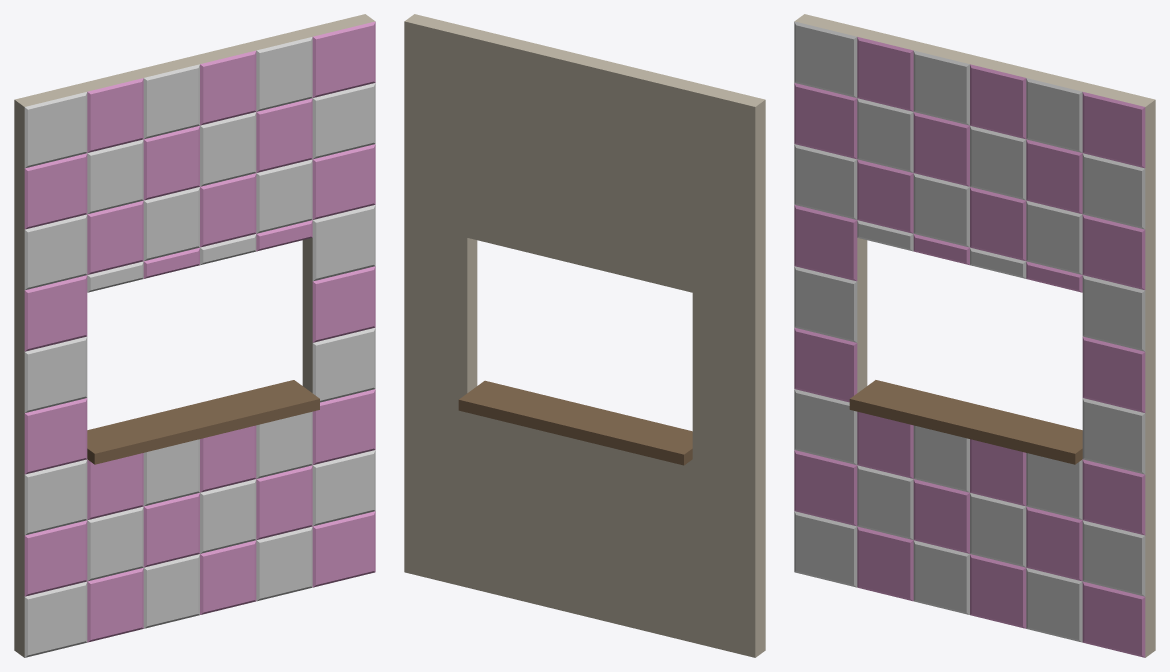
Rendered from Mesh_WallCeramic_O3.fbx.
3 views of the same model, side by side, from view 1: azimuth 30°, elevation 25°; view 2: azimuth 150°, elevation 25°; view 3: azimuth 330°, elevation 25° (orthographic).
Parts seen in each view (by area): view 1: Mesh_WallCeramic_O3; view 2: Mesh_WallCeramic_O3; view 3: Mesh_WallCeramic_O3.
Boxes of the visible parts, x1=… form: Mesh_WallCeramic_O3: x1=14, y1=14, x2=375, y2=657; Mesh_WallCeramic_O3: x1=404, y1=14, x2=765, y2=657; Mesh_WallCeramic_O3: x1=794, y1=14, x2=1155, y2=657.
Size of the model in its own units: 2 by 3 by 0.2574.
